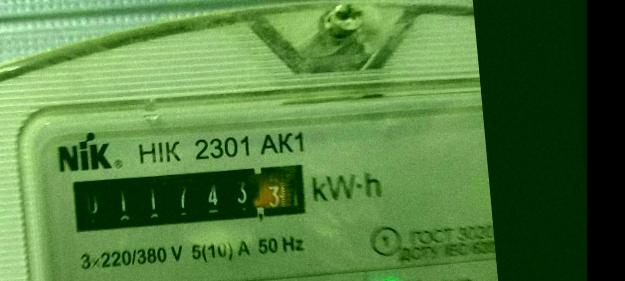0: (83, 187, 100, 217)
1: (144, 182, 158, 211), (115, 185, 128, 213)
3: (233, 177, 249, 205), (265, 183, 281, 209)
4: (203, 180, 219, 208)
7: (173, 179, 190, 208)
screen: (60, 149, 318, 245)
